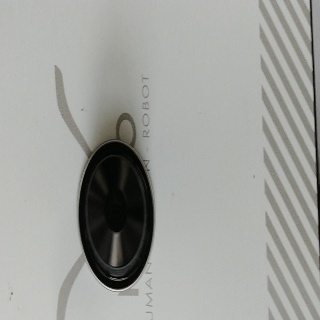capsule_10: (77, 139, 155, 292)
